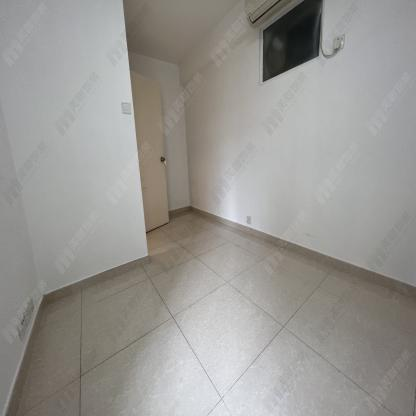AC: (244, 0, 292, 31)
Door: (129, 69, 169, 235)
